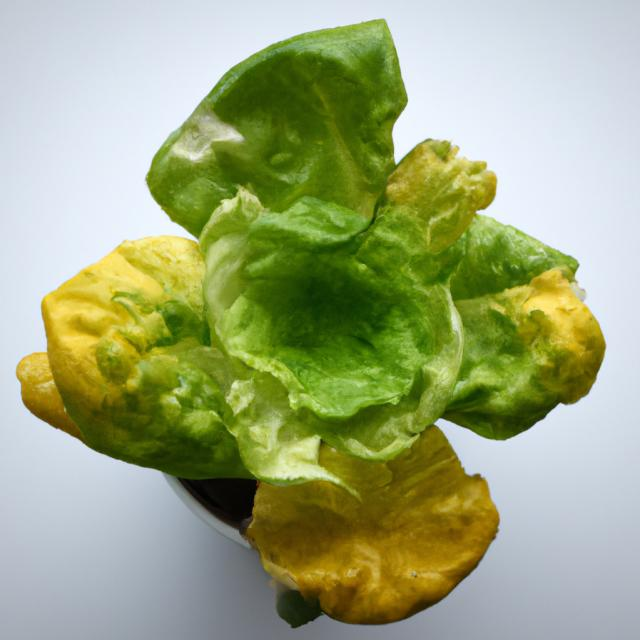-N: (11, 9, 615, 637)
